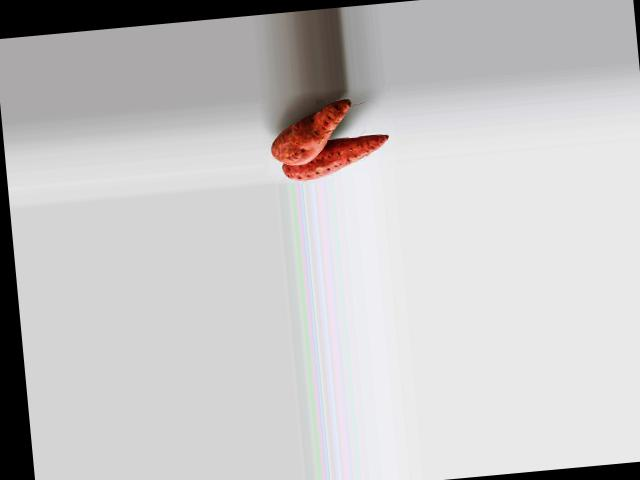sweet_potato: (280, 134, 385, 181)
